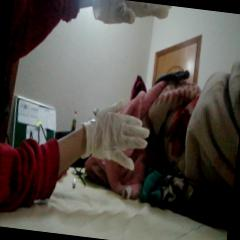gloved: (80, 93, 151, 172), (90, 0, 171, 32)
